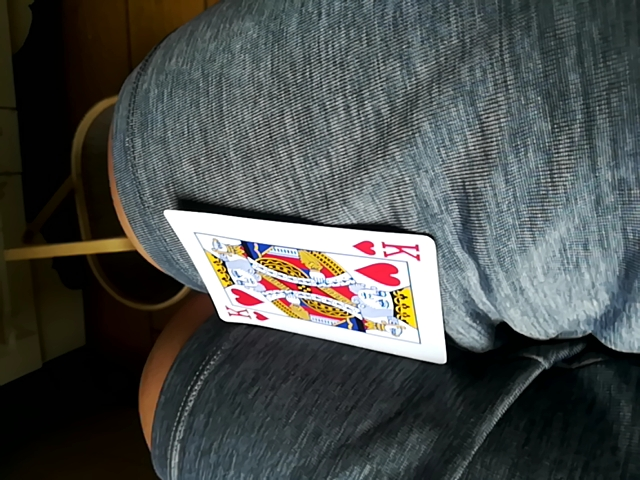hx k: (175, 218, 444, 364)
